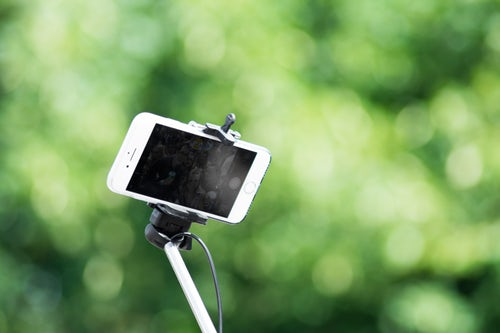phone: (103, 109, 272, 229)
